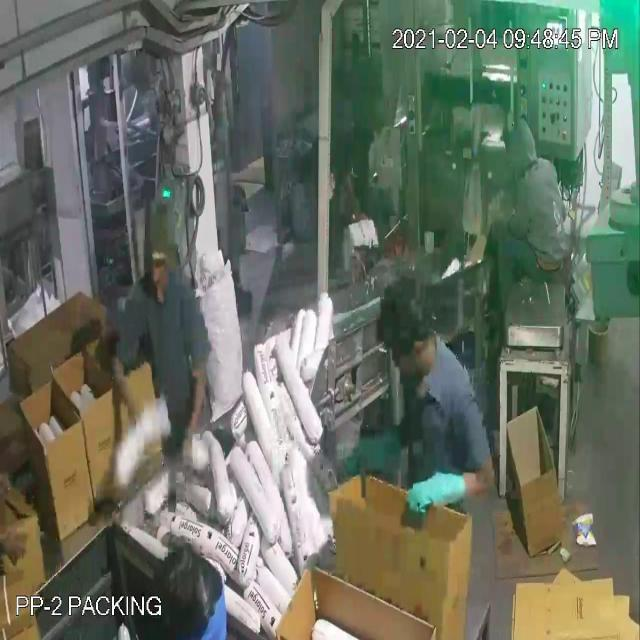No_Gloves: (50, 68, 442, 494)
